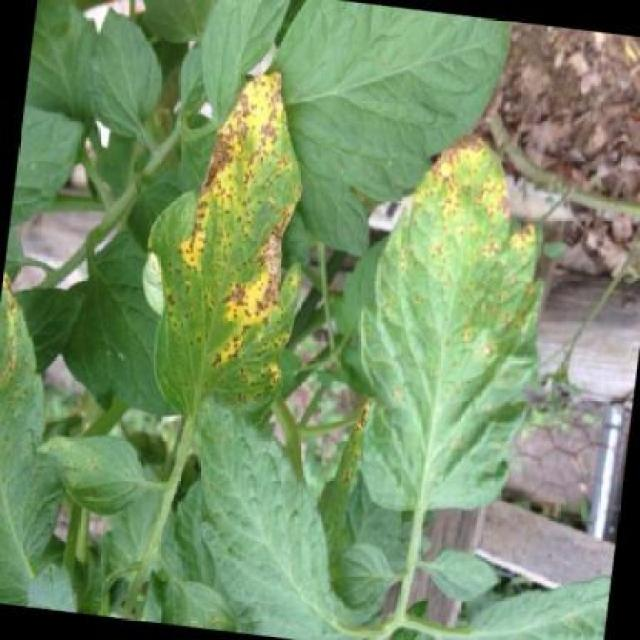Septoria leaf spot: (329, 110, 570, 527), (124, 53, 327, 441)
